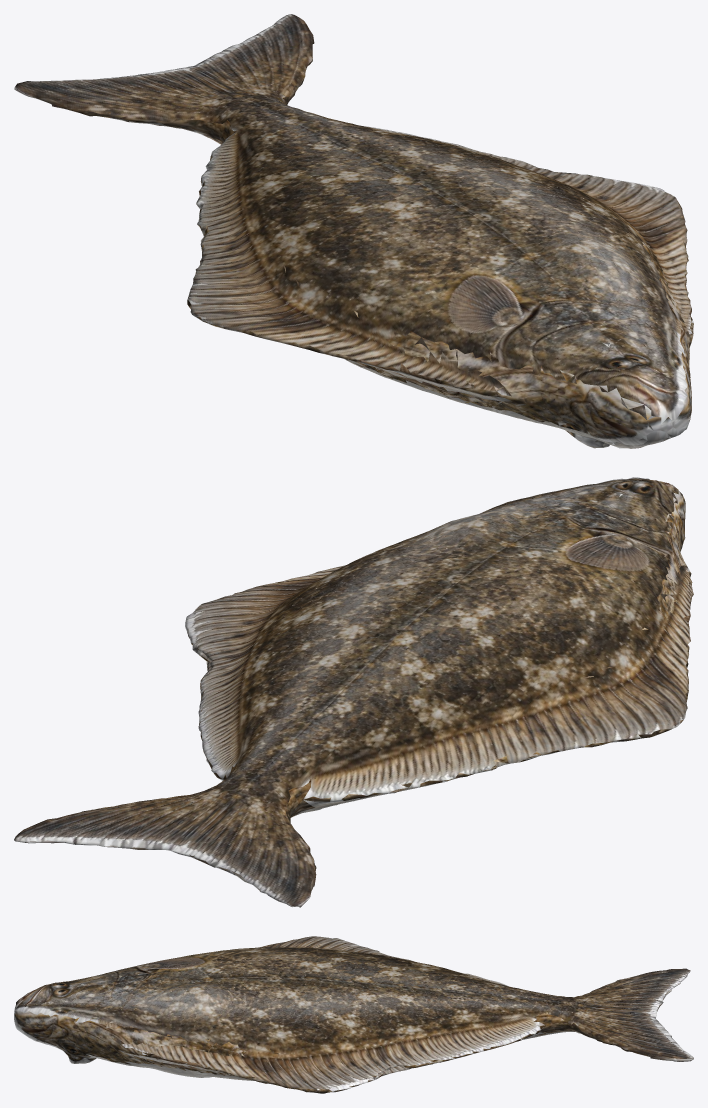
The model's file is fish_halibut.glb.
3 renders of one model, top to bottom at view 1: azimuth 30°, elevation 25°; view 2: azimuth 150°, elevation 25°; view 3: azimuth 270°, elevation 25°, orthographic. The views are drawn at different scales.
Visible parts, largest first — view 1: orient; view 2: orient; view 3: orient.
Boxes of the visible parts, x1,y1,x2,y2 form: orient: [14, 14, 693, 448]; orient: [14, 477, 693, 907]; orient: [14, 936, 693, 1093].
Size of the model in its own units: 1.05 by 0.2671 by 1.94.
Materials: 1 (1 with a texture image).
